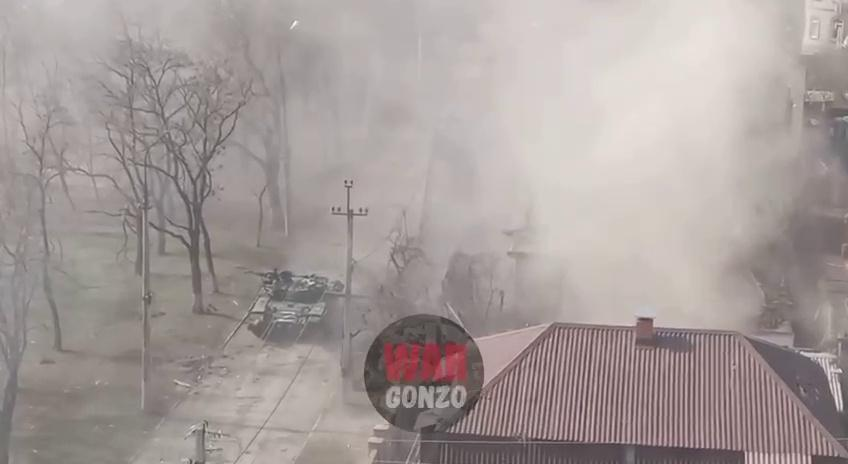car: (246, 272, 386, 340)
